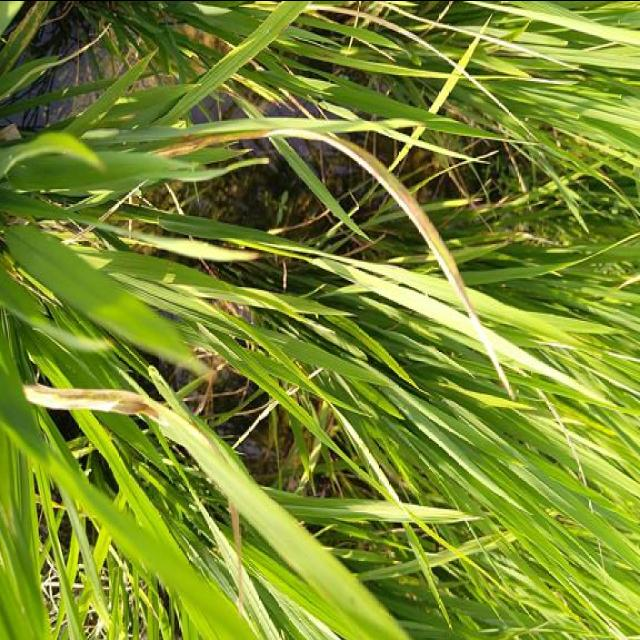Leaf Blight: (152, 126, 513, 397), (21, 387, 216, 468), (230, 499, 243, 603)
